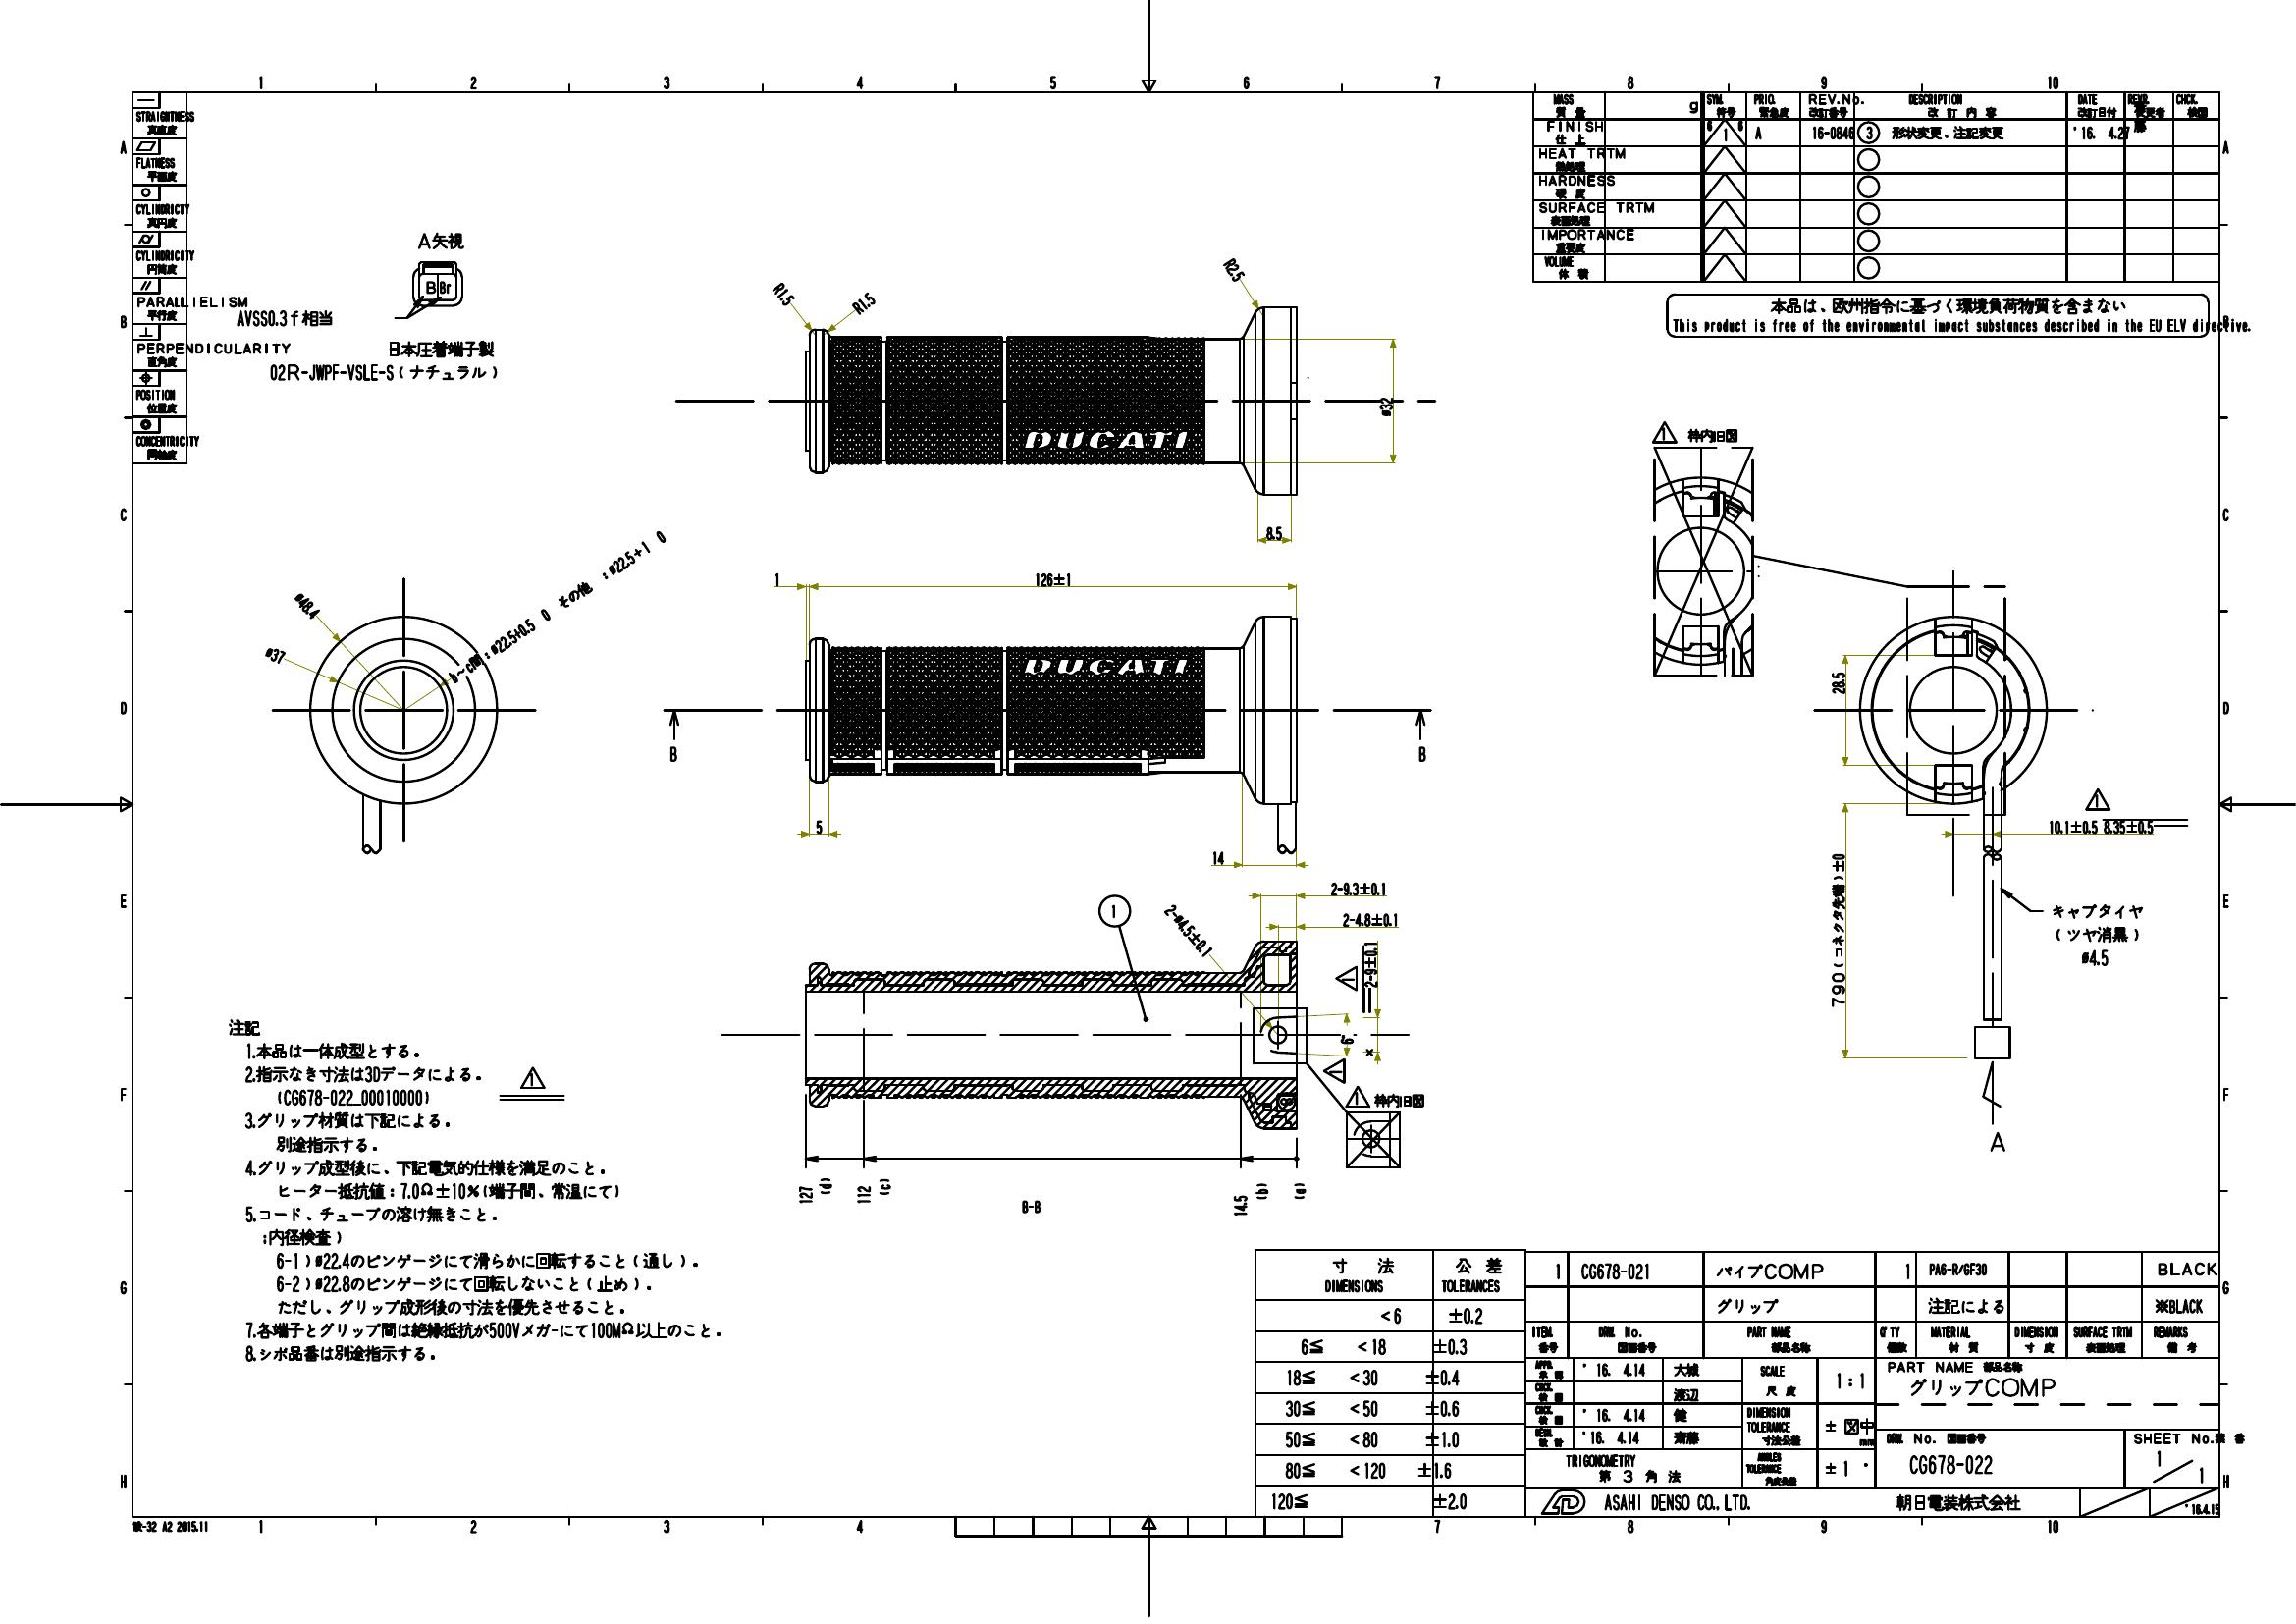anntotation_text: (228, 1018, 722, 1362), (1665, 292, 2250, 337), (267, 362, 497, 381), (2052, 903, 2143, 944), (1650, 420, 1739, 445), (388, 339, 495, 359), (235, 309, 332, 330), (1346, 1084, 1425, 1109), (1098, 893, 1131, 926), (132, 1520, 207, 1533), (415, 232, 464, 250), (2083, 787, 2112, 810), (1321, 1058, 1346, 1083), (1333, 965, 1356, 991), (1989, 1132, 2006, 1151), (1021, 1199, 1040, 1213), (1293, 1183, 1307, 1199), (819, 1176, 831, 1193), (1256, 1183, 1268, 1199), (1416, 743, 1426, 761), (668, 743, 676, 763), (878, 1178, 889, 1193)
dimension_text: (429, 596, 689, 615), (1830, 852, 1846, 1007), (2048, 819, 2154, 833), (1158, 923, 1217, 939), (1342, 912, 1398, 926), (1330, 881, 1386, 895), (1035, 571, 1072, 587), (1363, 947, 1377, 988), (2082, 949, 2108, 967), (850, 295, 877, 311), (293, 598, 321, 612), (1231, 1193, 1247, 1216), (1830, 671, 1846, 694), (773, 286, 796, 302), (1223, 264, 1247, 278), (265, 643, 283, 663), (798, 1185, 813, 1204), (856, 1185, 871, 1202), (1265, 526, 1282, 540), (1379, 397, 1391, 417), (813, 819, 824, 835), (1339, 1033, 1354, 1044), (1214, 851, 1224, 863), (773, 573, 780, 585)
object: (803, 615, 1300, 856), (803, 939, 1298, 1132), (803, 304, 1300, 496), (1859, 613, 2050, 1060), (309, 615, 497, 854), (1651, 475, 1755, 675), (411, 260, 462, 308)
title_block: (1254, 1250, 2219, 1519), (1530, 90, 2220, 283), (130, 91, 188, 464)
